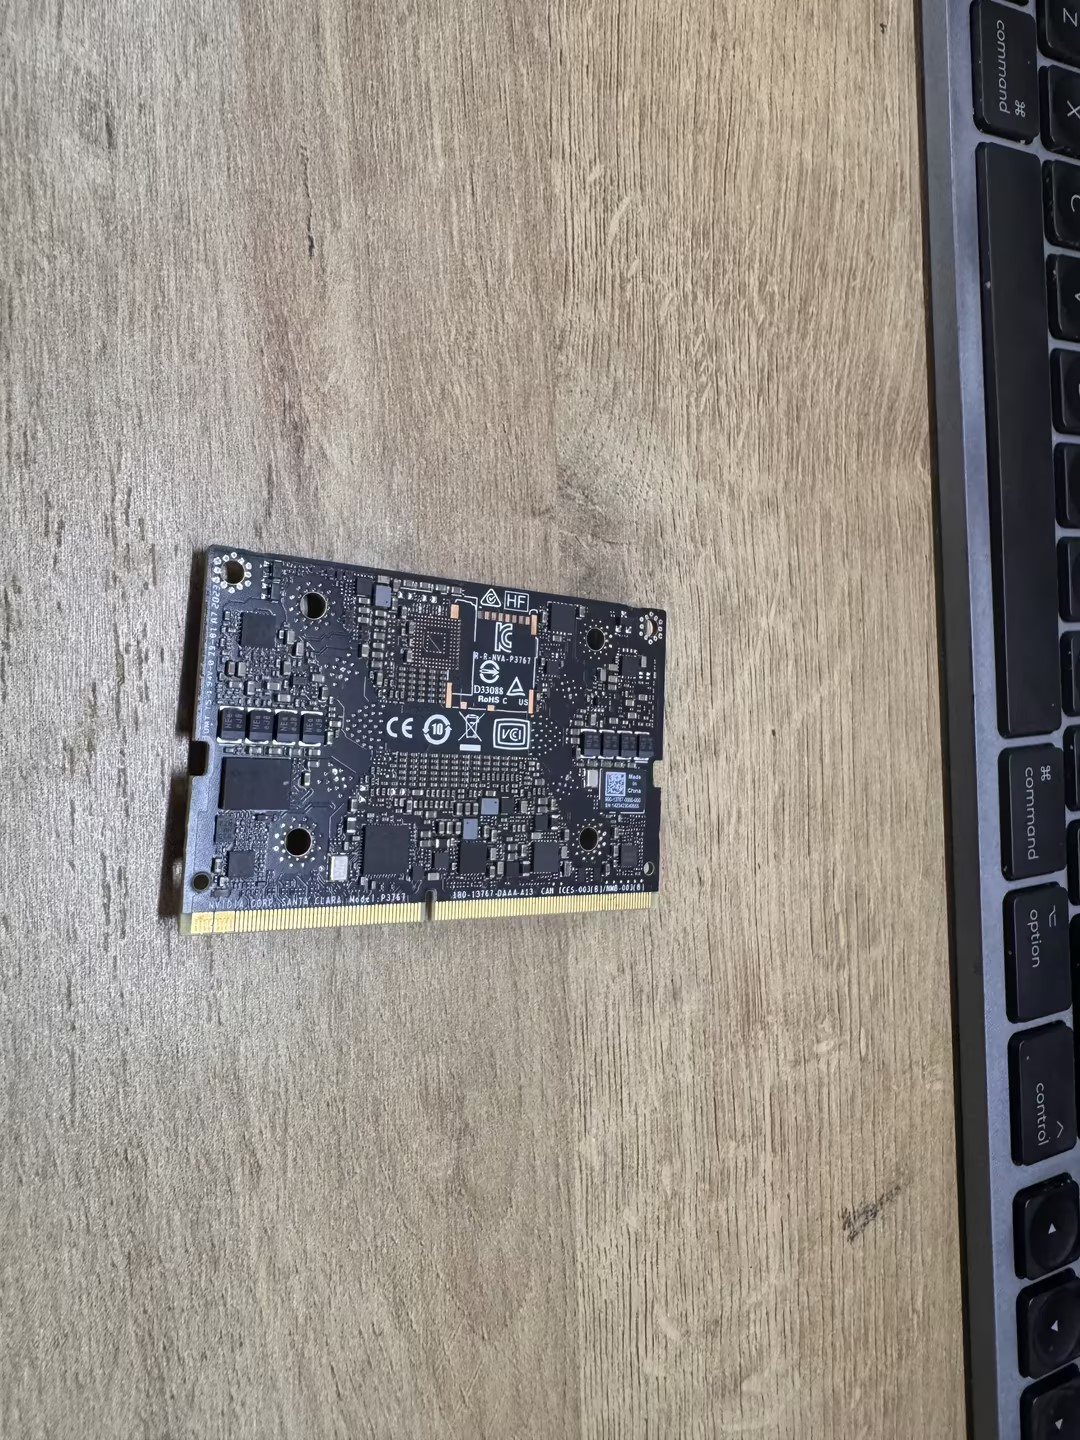Jetson Module: (160, 532, 677, 948)
